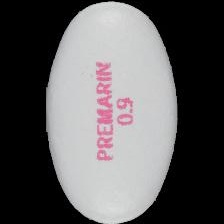69189-1105: (0, 0, 224, 224)
